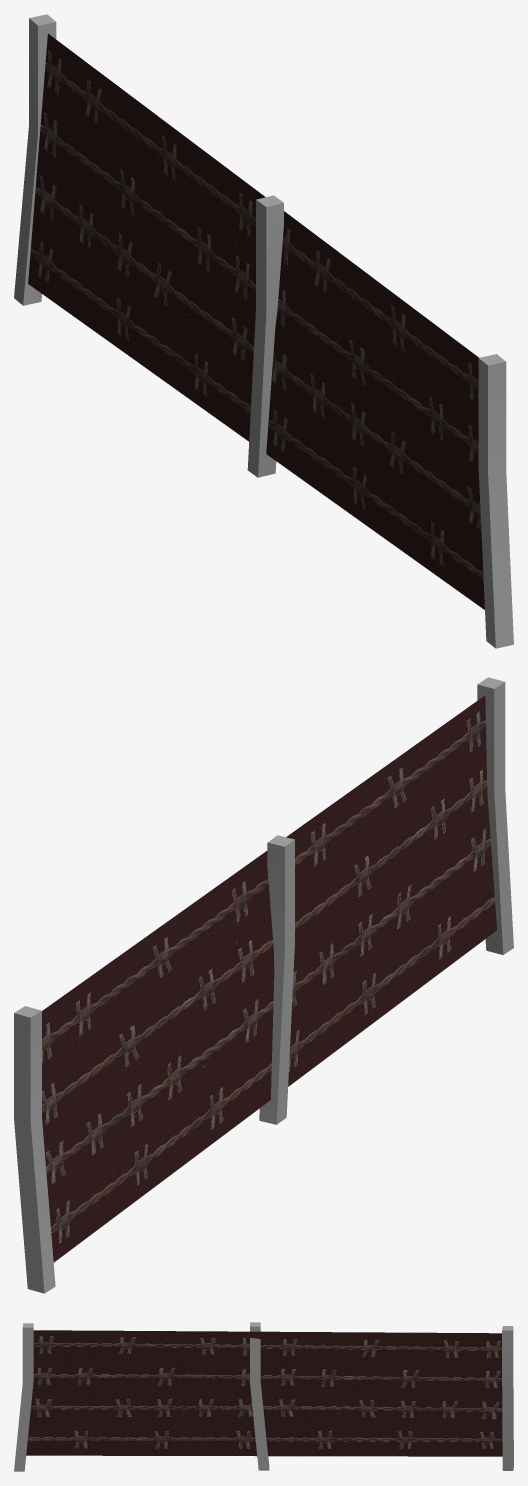
The model's file is WoodFence.fbx.
3 renders of one model, top to bottom at view 1: azimuth 30°, elevation 25°; view 2: azimuth 150°, elevation 25°; view 3: azimuth 270°, elevation 25°, orthographic. The views are drawn at different scales.
Visible parts, largest first — view 1: BarbWire, WoodPost3, WoodPost, WoodPost2; view 2: BarbWire, WoodPost2, WoodPost, WoodPost3; view 3: BarbWire, WoodPost2, WoodPost3, WoodPost.
Part boxes in pixels (x1=…): BarbWire: x1=28, y1=33, x2=484, y2=609; WoodPost3: x1=478, y1=354, x2=513, y2=648; WoodPost: x1=247, y1=195, x2=283, y2=477; WoodPost2: x1=14, y1=14, x2=56, y2=305; BarbWire: x1=42, y1=695, x2=496, y2=1262; WoodPost2: x1=14, y1=1006, x2=55, y2=1293; WoodPost: x1=259, y1=835, x2=294, y2=1124; WoodPost3: x1=477, y1=677, x2=513, y2=954; BarbWire: x1=26, y1=1330, x2=502, y2=1456; WoodPost2: x1=502, y1=1326, x2=513, y2=1470; WoodPost3: x1=14, y1=1323, x2=33, y2=1471; WoodPost: x1=250, y1=1322, x2=269, y2=1470.
Size of the model in its own units: 0.7408 by 5.87 by 18.45.
